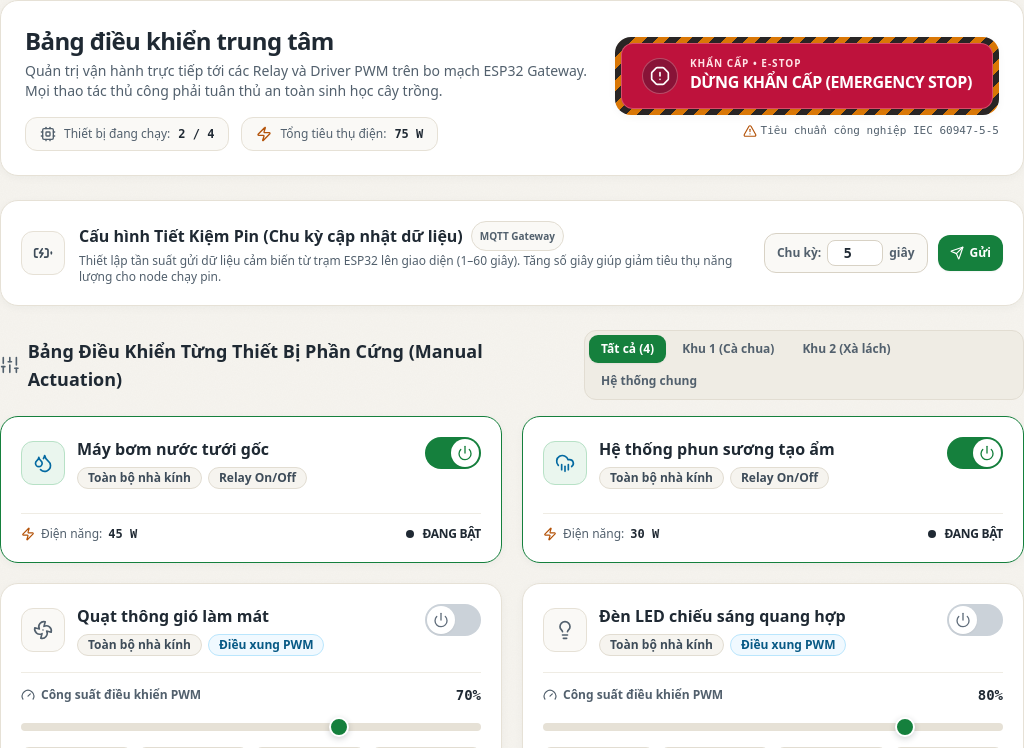
Scenario: Safety & Boundary Challenger 2 Verification Suite › Emergency Stop Safety & Latch Mechanism › pressing E-Stop immediately shuts down all actuators and triggers EMERGENCY HALTED banner
// Press Emergency Stop
Step 1. Click the button "KHẨN CẤP • E-STOP DỪNG KHẨN CẤP (EMERGENCY STOP)" → (807, 76), box [621,43,993,109]
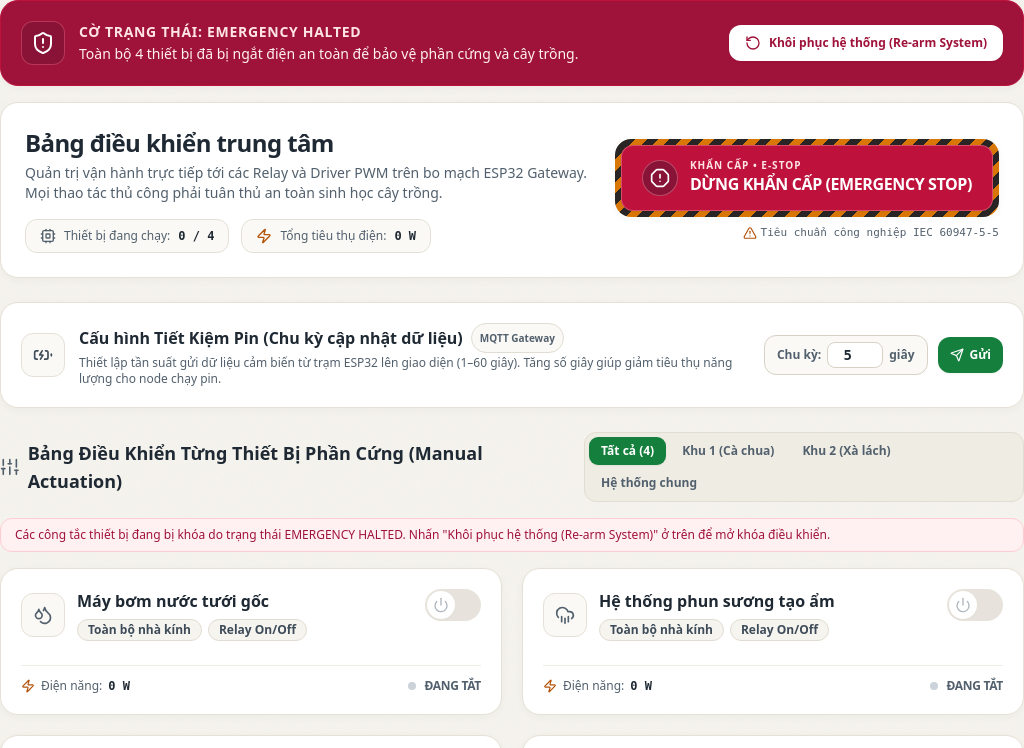
Check: the text "Cờ Trạng Thái: EMERGENCY HALTED" is shown, box [79,22,361,41]
Check: the text "Toàn bộ 4 thiết bị đã bị ngắt điện an toàn" is shown, box [79,44,578,63]
Check: the button "Khôi phục hệ thống (Re-arm System)" is shown
// Clicking Re-arm dismisses the latch banner
Step 2. Click the button "Khôi phục hệ thống (Re-arm System)" → (866, 43), box [729,25,1003,61]
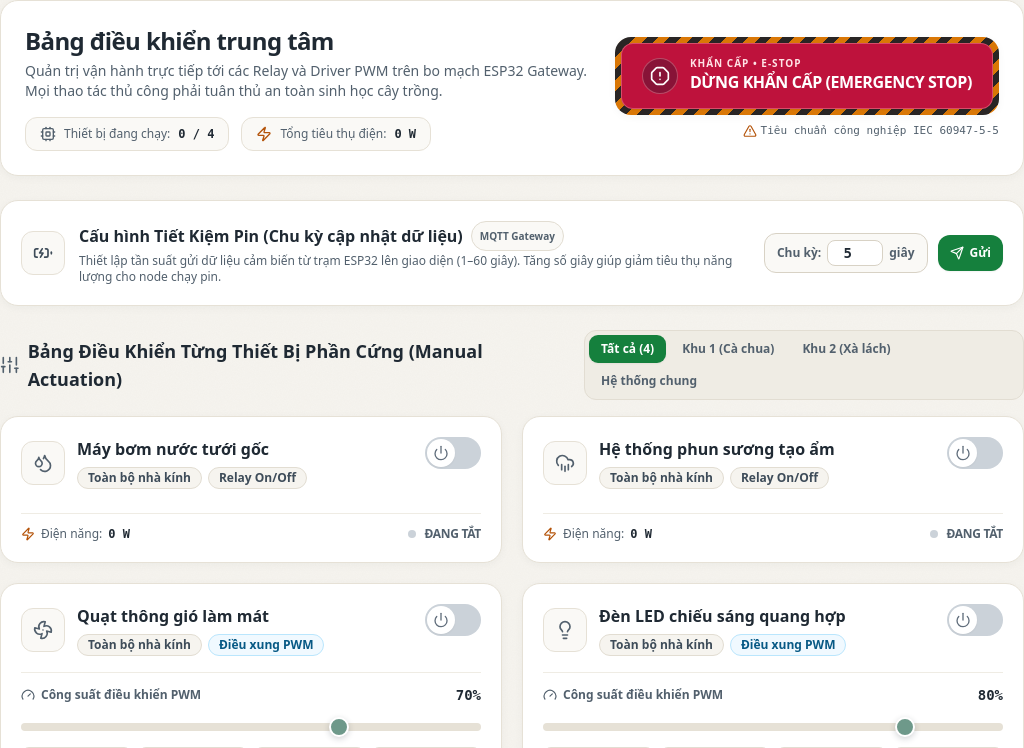
Check: the text "Cờ Trạng Thái: EMERGENCY HALTED" is gone
